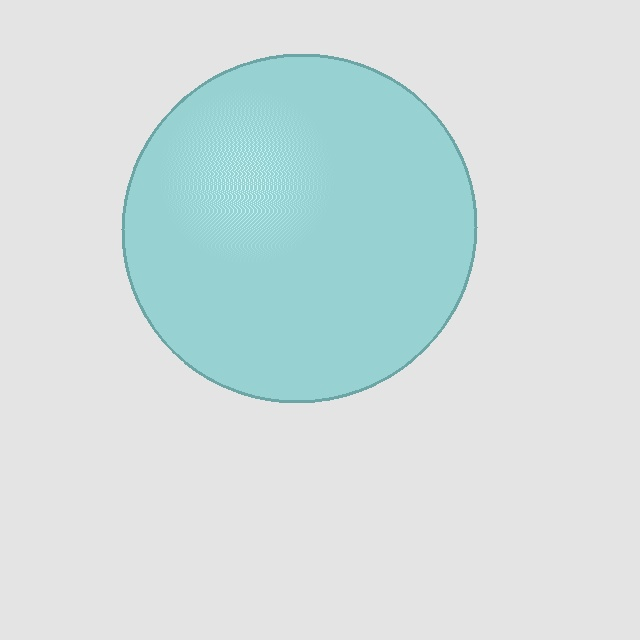lens: (123, 55, 475, 401)
